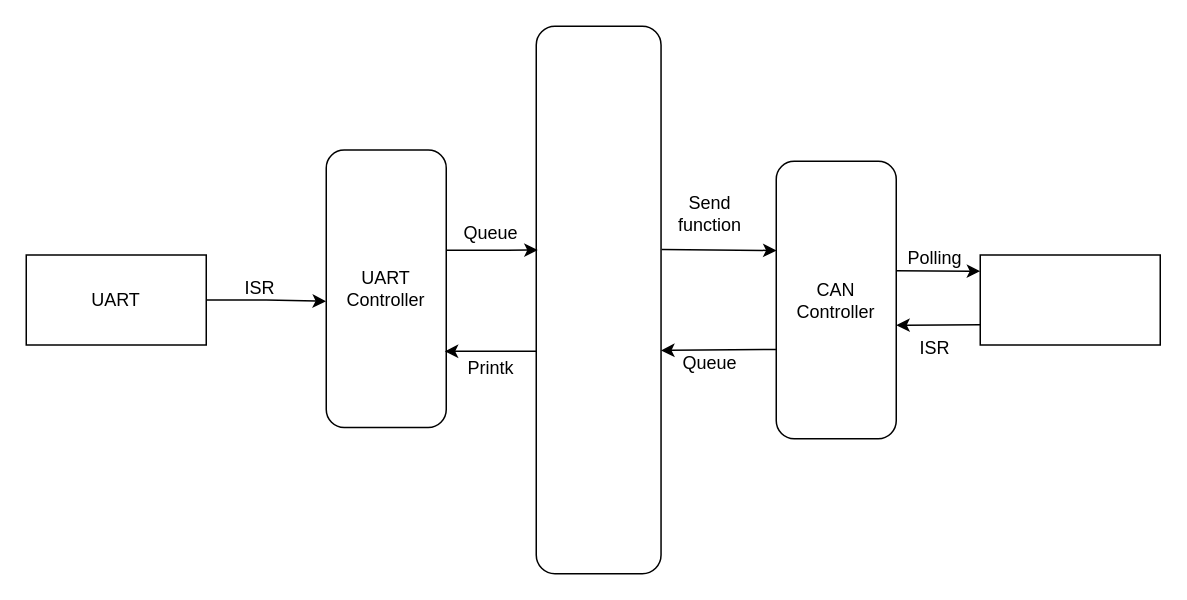
Some shapes in this 1187 by 600 pixel diagram are drawn without their labels. The centre of each missing label's shape, as x and y in pixels:
Application: the point at 598,299
CAN: the point at 1069,299
